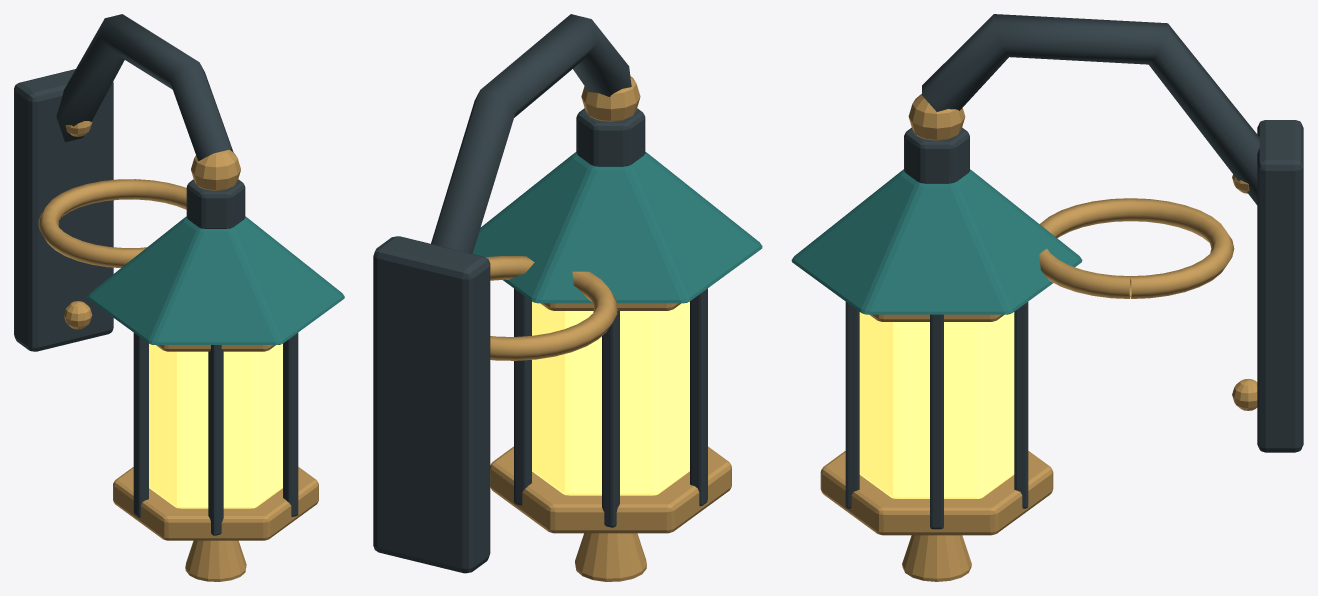
The model's file is prop_aegis_civic_wall_lantern.glb.
3 renders of one model, left to right at view 1: azimuth 30°, elevation 25°; view 2: azimuth 150°, elevation 25°; view 3: azimuth 270°, elevation 25°, orthographic. The views are drawn at different scales.
Parts seen in each view (by area): view 1: aegis_civic_wall_lantern.001; view 2: aegis_civic_wall_lantern.001; view 3: aegis_civic_wall_lantern.001.
Boxes of the visible parts, box(x1,y1,x2,y2) form: aegis_civic_wall_lantern.001: box(14, 14, 344, 581); aegis_civic_wall_lantern.001: box(373, 14, 762, 581); aegis_civic_wall_lantern.001: box(791, 14, 1303, 581).
Bounding box in the file's own units: 0.552 × 1.32 × 1.11.
